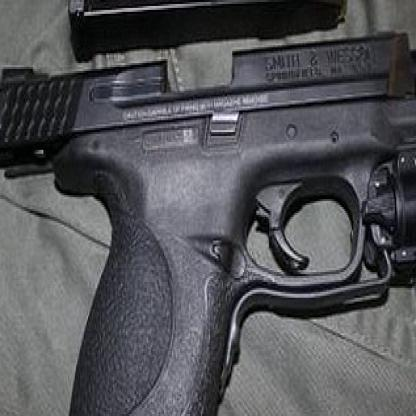gun: (0, 24, 415, 414)
